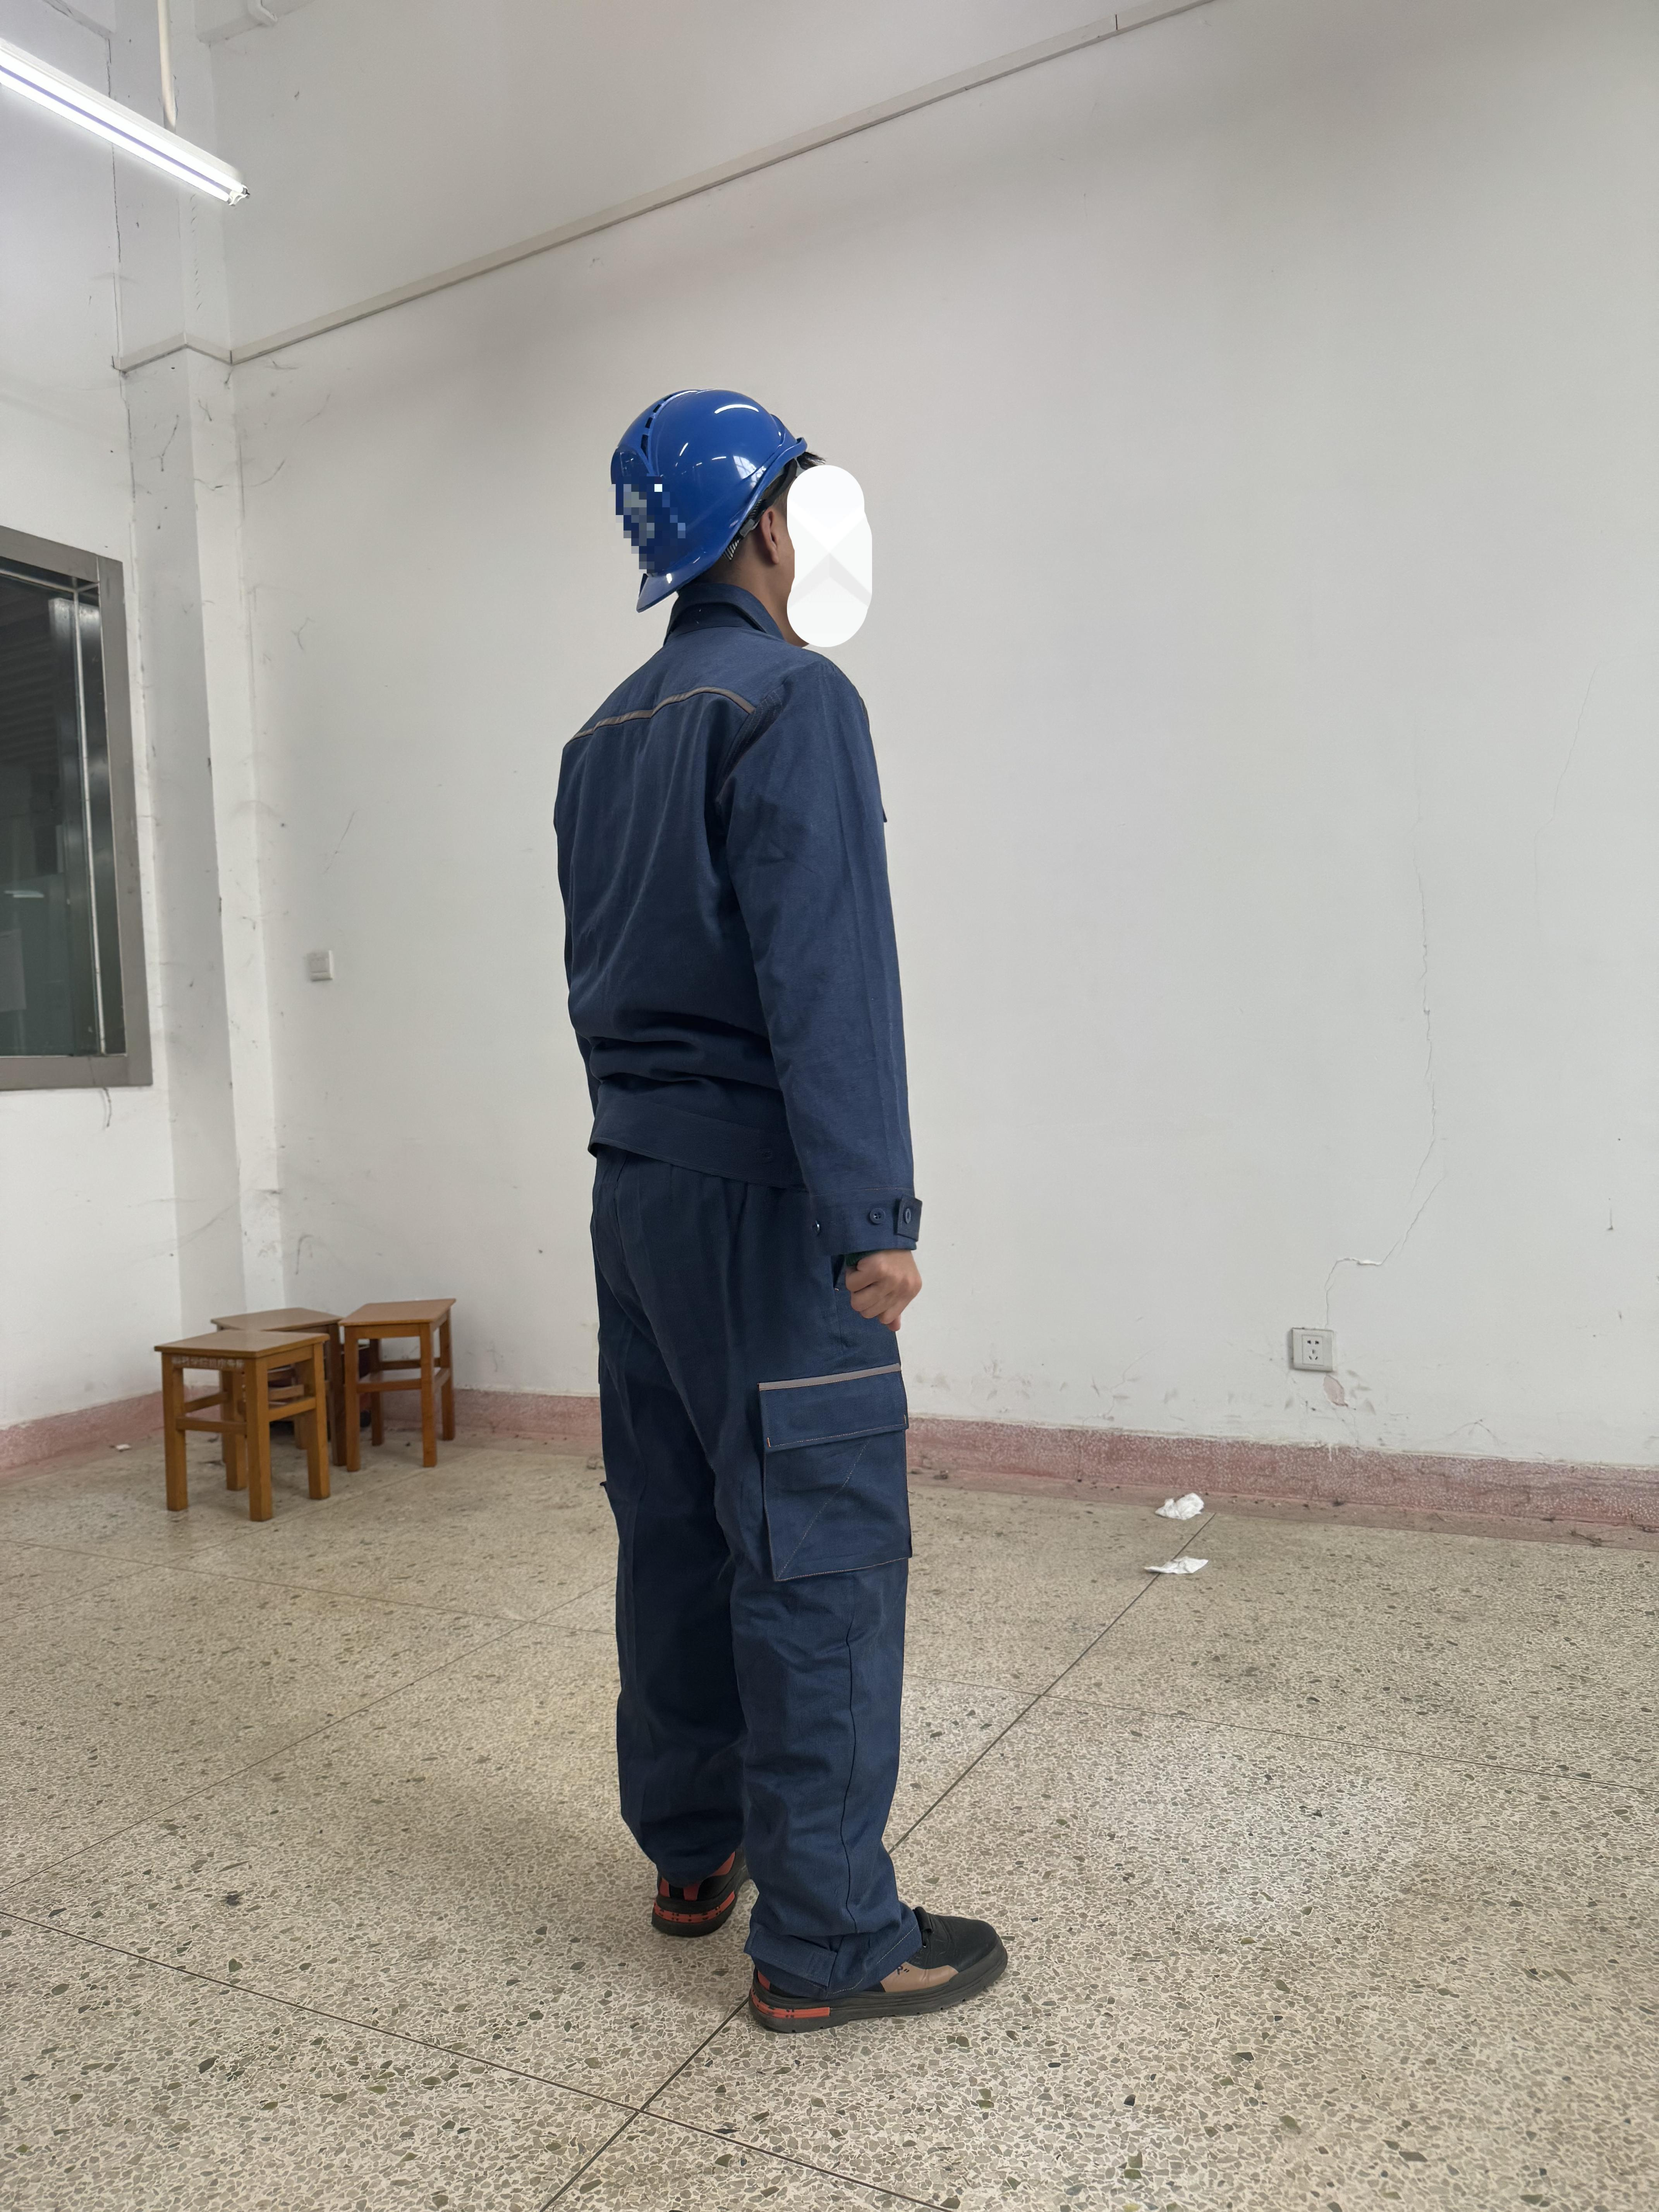noear: (739, 491, 814, 611)
